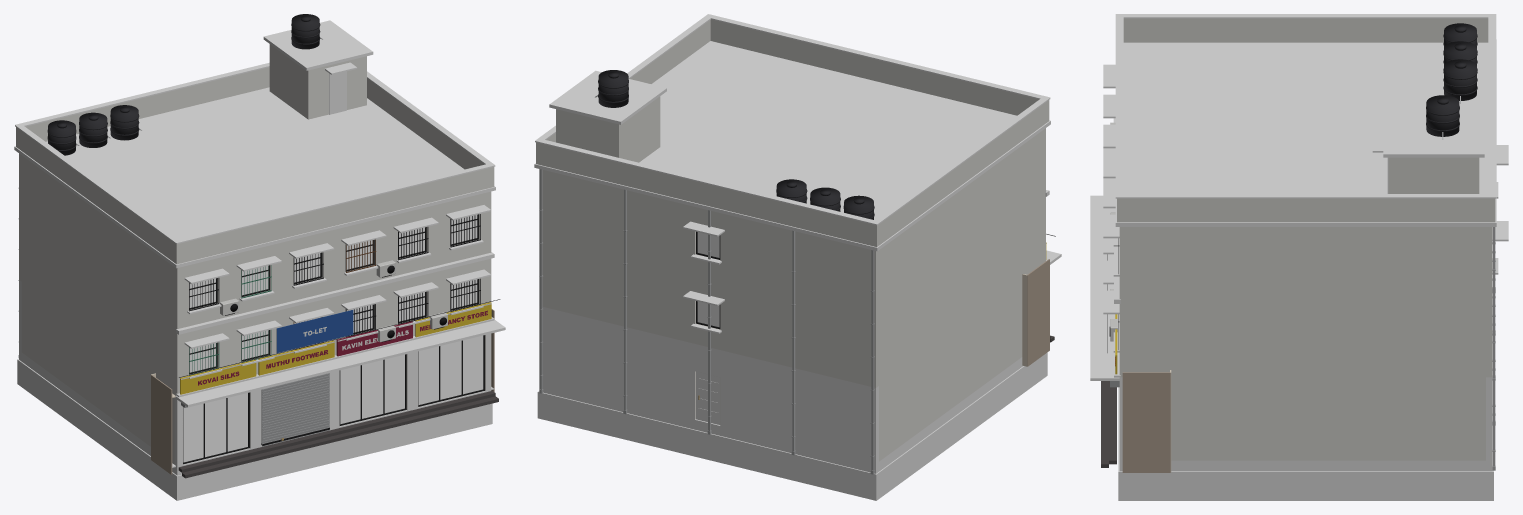
Rendered from commercial_16x14_3.glb.
3 views of the same model, side by side, from view 1: azimuth 30°, elevation 25°; view 2: azimuth 150°, elevation 25°; view 3: azimuth 270°, elevation 25° (orthographic). The views are drawn at different scales.
Parts seen in each view (by area): view 1: commercial_16x14_3; view 2: commercial_16x14_3; view 3: commercial_16x14_3.
Part boxes in pixels (x1,y1,x2,y2): commercial_16x14_3: [14, 14, 505, 500]; commercial_16x14_3: [534, 14, 1061, 500]; commercial_16x14_3: [1090, 14, 1508, 500].
Size of the model in its own units: 16.5 by 15.45 by 15.71.
